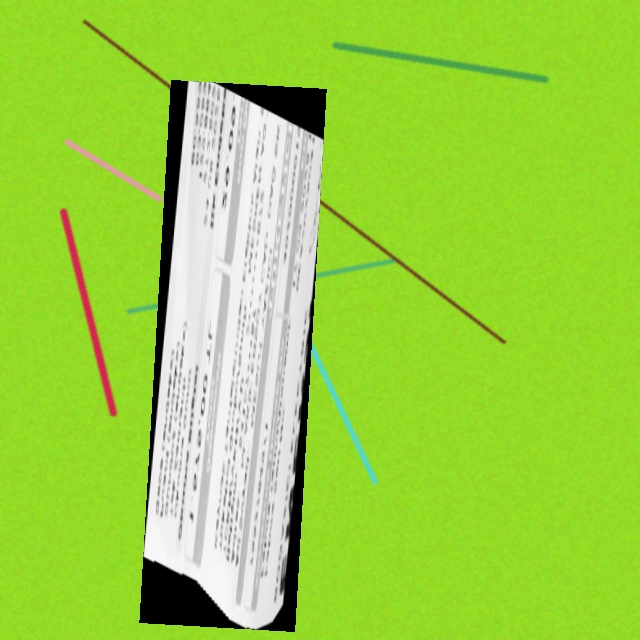electricity-bill: (138, 80, 326, 632)
